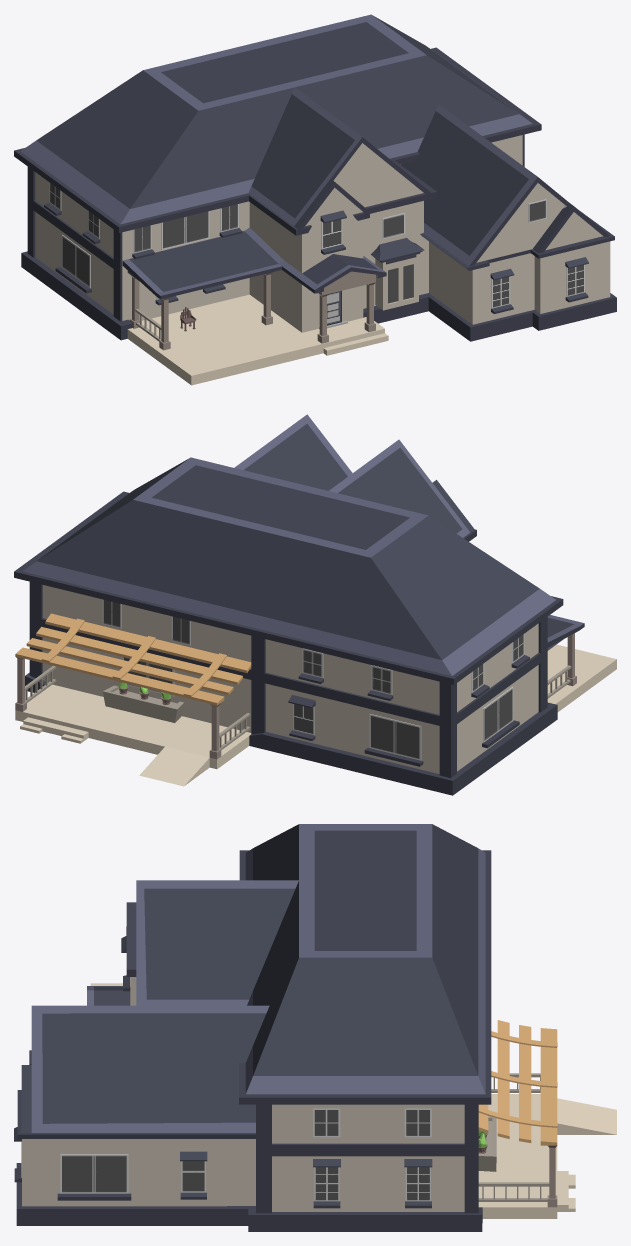
The model's file is house05_color01.fbx.
The picture shows the model from 3 angles, top to bottom: view 1: azimuth 30°, elevation 25°; view 2: azimuth 150°, elevation 25°; view 3: azimuth 270°, elevation 25°; orthographic projection. The views are drawn at different scales.
Visible parts, largest first — view 1: Cube.004; view 2: Cube.004; view 3: Cube.004.
Boxes of the visible parts, x1,y1,x2,y2 form: Cube.004: [14, 14, 616, 385]; Cube.004: [14, 414, 616, 795]; Cube.004: [14, 824, 616, 1231].
Bounding box in the file's own units: 2864 × 1219 × 2952.
